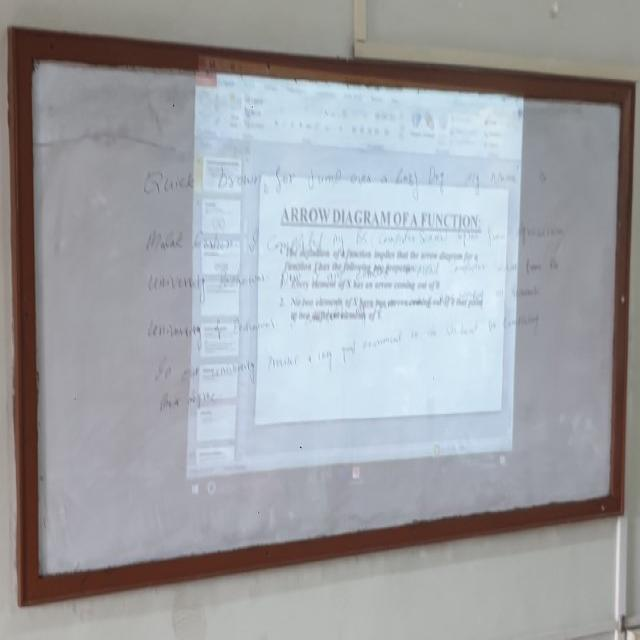Slide: (185, 60, 522, 502)
White-board: (18, 38, 627, 595)
